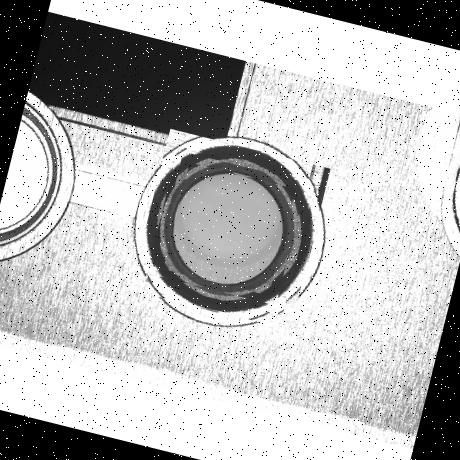Hole: (130, 128, 330, 330)
Hole2: (144, 146, 316, 316)
Hole3: (152, 152, 307, 306)
Hole4: (163, 162, 296, 296)
